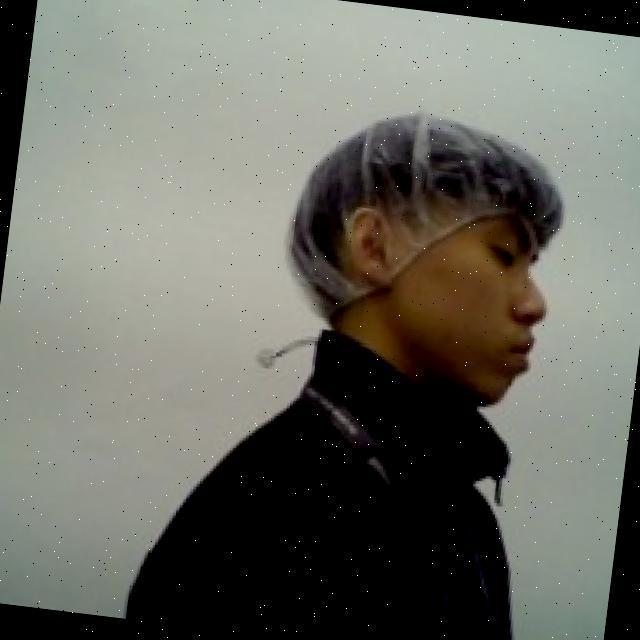gloves: (274, 88, 579, 350)
no_hairnet: (318, 200, 562, 429)
